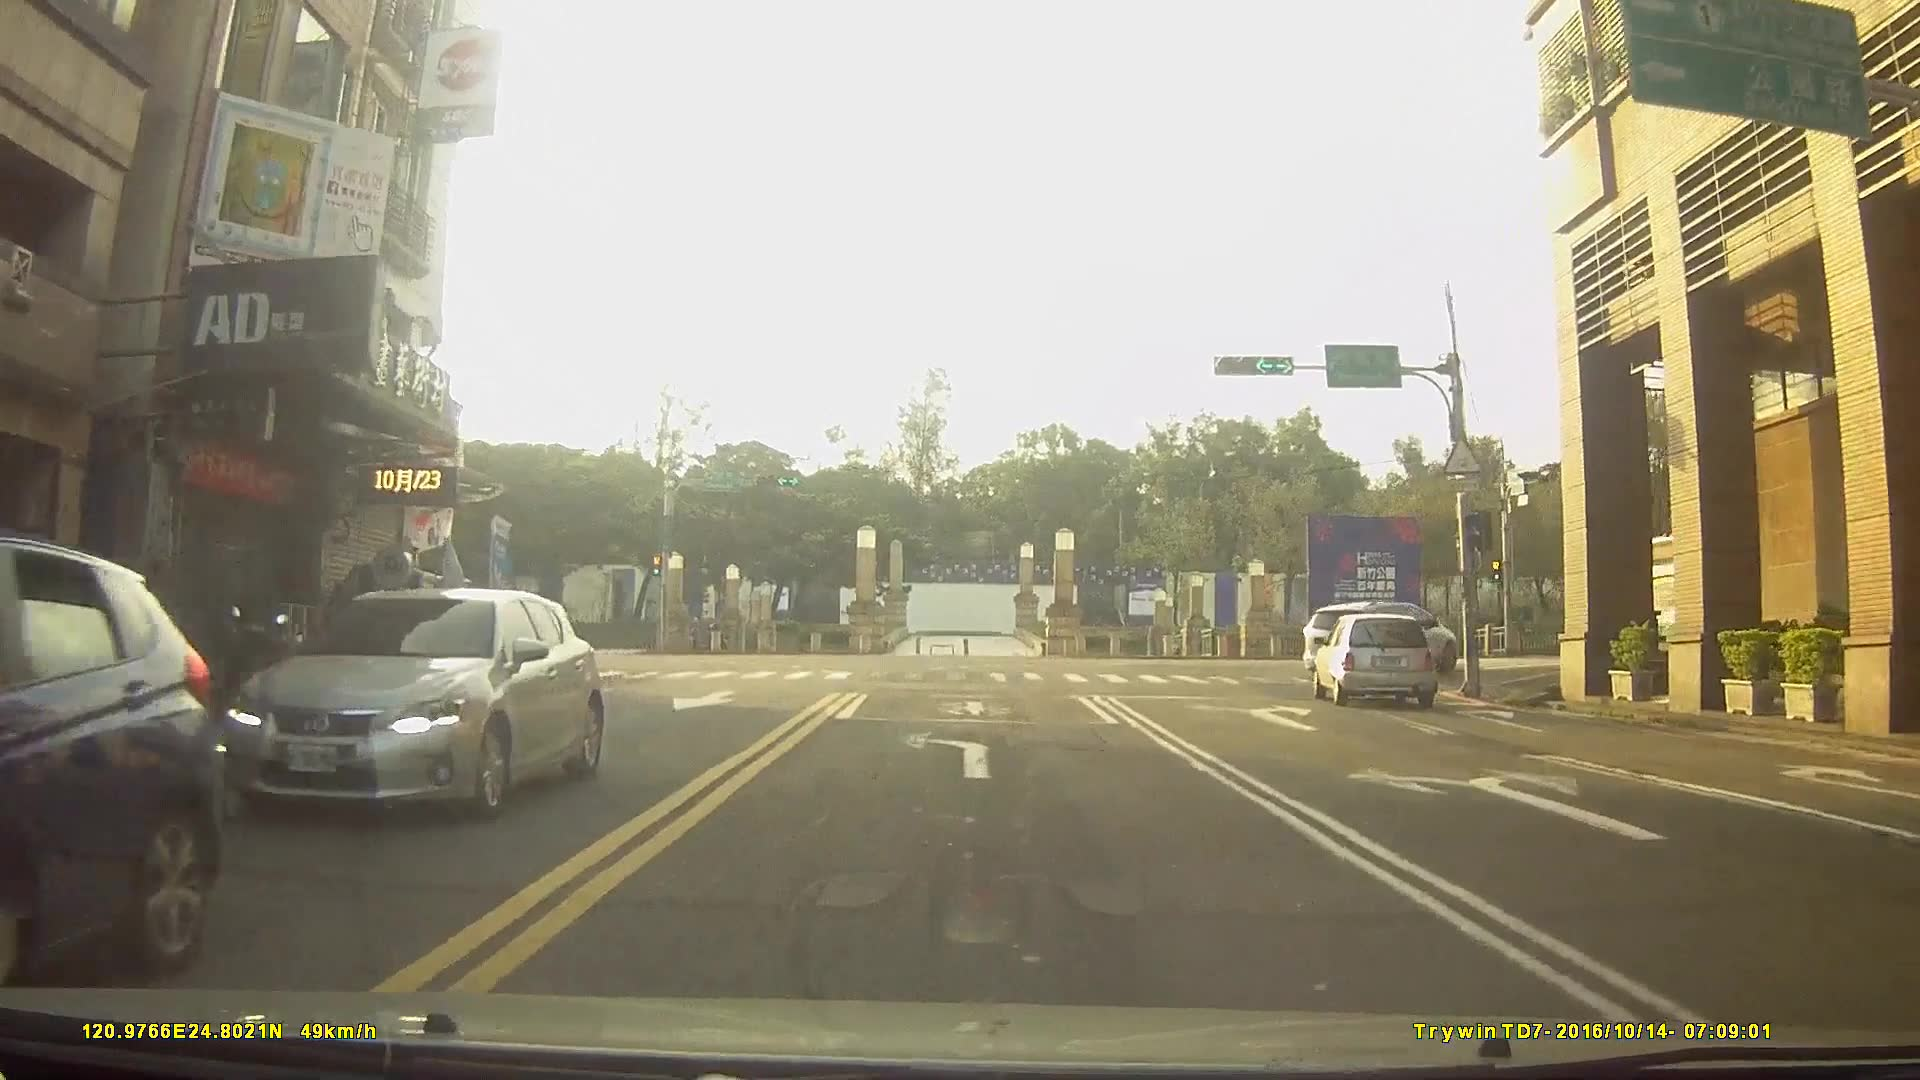vehicle: (0, 524, 225, 998), (218, 583, 603, 818), (1302, 593, 1456, 676), (1309, 611, 1437, 705)
